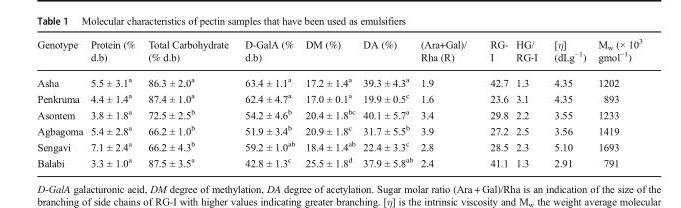table: (36, 36, 641, 168)
table column: (141, 36, 236, 168), (236, 36, 299, 168), (416, 36, 477, 168), (299, 36, 358, 168), (358, 36, 416, 168), (86, 36, 141, 168), (36, 36, 86, 168), (591, 36, 641, 168), (545, 36, 591, 168), (477, 36, 511, 168), (511, 36, 545, 168)
table column header: (36, 36, 641, 68)
table row: (36, 36, 641, 68), (36, 68, 641, 89), (36, 89, 641, 105), (36, 105, 641, 121), (36, 121, 641, 137), (36, 137, 641, 153), (36, 153, 641, 168)
